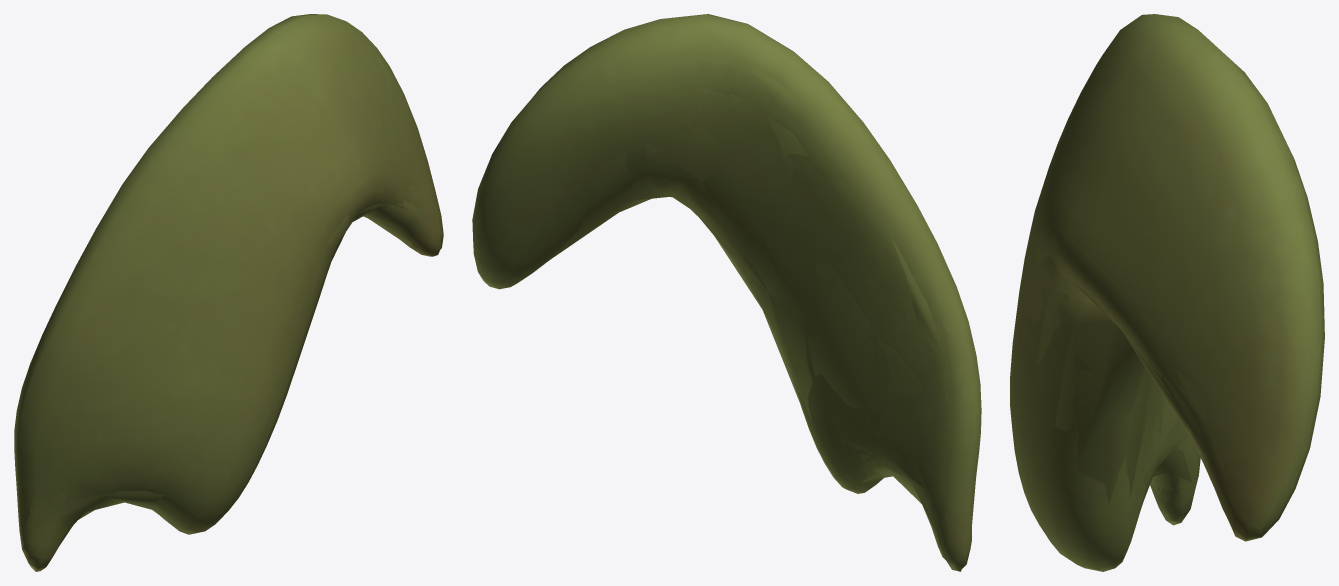
File: Gallbladder.fbx
The picture shows the model from 3 angles, left to right: view 1: azimuth 30°, elevation 25°; view 2: azimuth 150°, elevation 25°; view 3: azimuth 270°, elevation 25°; orthographic projection. The views are drawn at different scales.
Visible parts, largest first — view 1: Gallbladder high, Gallbladder low, Gallbladder; view 2: Gallbladder high, Gallbladder low, Gallbladder; view 3: Gallbladder high, Gallbladder low, Gallbladder.
Boxes of the visible parts, box(x1,y1,x2,y2) form: Gallbladder high: box(14, 14, 443, 571); Gallbladder low: box(19, 200, 421, 533); Gallbladder: box(19, 144, 433, 545); Gallbladder high: box(472, 14, 981, 571); Gallbladder low: box(539, 56, 947, 532); Gallbladder: box(559, 65, 975, 526); Gallbladder high: box(1010, 14, 1324, 571); Gallbladder low: box(1031, 255, 1203, 504); Gallbladder: box(1024, 186, 1227, 515).
Bounding box in the file's own units: 3.13 × 3.17 × 1.37.
1 material, 1 textured.
